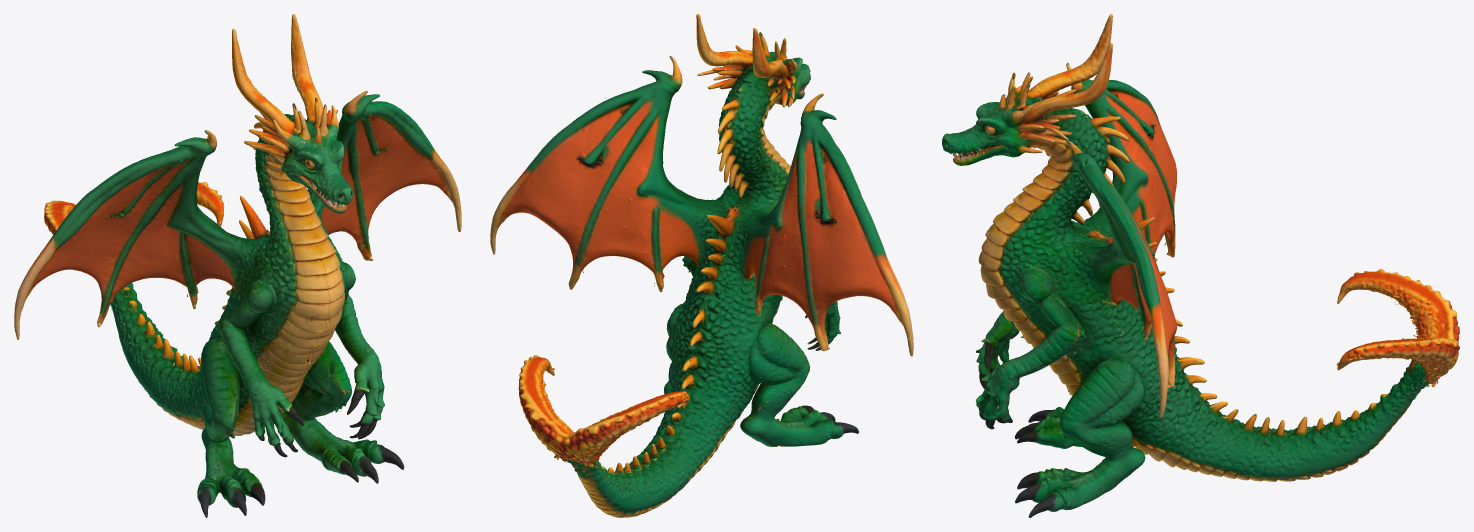
The model's file is dragon.glb.
3 views of the same model, side by side, from view 1: azimuth 30°, elevation 25°; view 2: azimuth 150°, elevation 25°; view 3: azimuth 270°, elevation 25° (orthographic). The views are drawn at different scales.
Bounding box in the file's own units: 1.89 × 1.82 × 1.9.
1 material, 1 textured.
